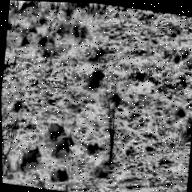boar: (16, 140, 45, 172), (84, 59, 108, 92), (40, 114, 68, 140), (46, 160, 72, 188), (51, 130, 74, 158)
